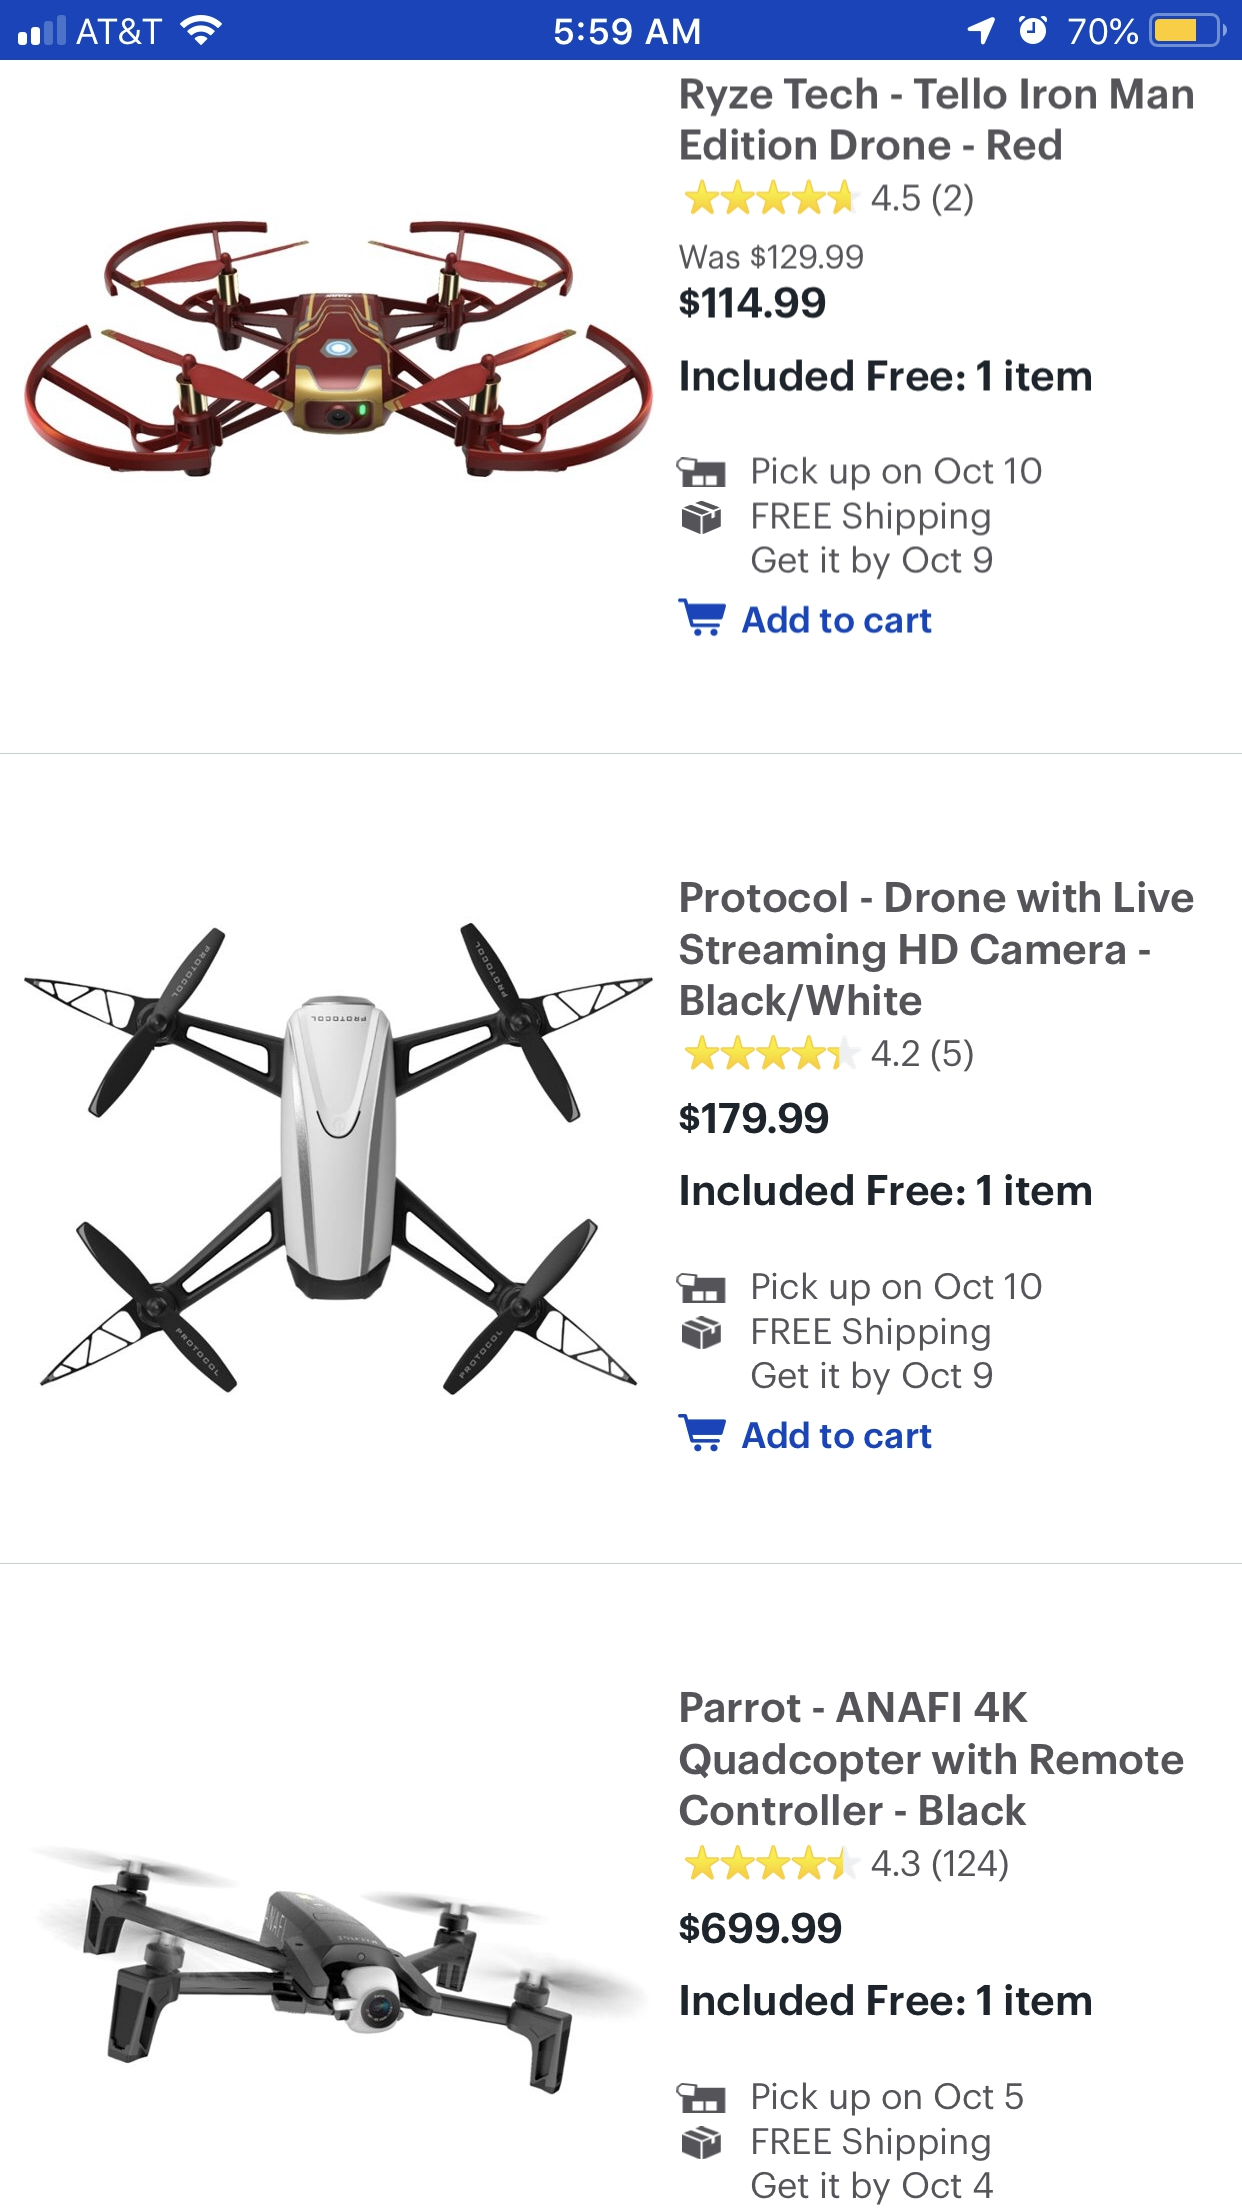Icon: (685, 179, 863, 217), (685, 1844, 863, 1880), (685, 1034, 863, 1071), (676, 597, 726, 638), (678, 1413, 726, 1453)
Image: (24, 921, 654, 1397), (24, 221, 655, 479), (33, 1841, 640, 2096), (676, 1272, 726, 1304), (676, 456, 726, 488), (676, 2084, 726, 2114), (681, 500, 722, 535), (682, 1315, 722, 1350), (682, 2126, 722, 2159)
Text: (679, 881, 1193, 1024), (679, 1692, 1184, 1827), (681, 77, 1193, 162), (751, 456, 1042, 581), (752, 1272, 1043, 1397), (751, 2082, 1024, 2206), (681, 359, 1092, 393), (681, 1174, 1092, 1207), (681, 1984, 1092, 2017), (742, 605, 933, 635), (742, 1419, 933, 1450), (679, 1912, 842, 1946), (676, 244, 864, 271), (679, 287, 826, 320), (870, 1849, 1008, 1883), (679, 1102, 830, 1134), (870, 1037, 974, 1074), (870, 183, 974, 218)
UpperTaskBar: (2, 2, 1242, 61)
